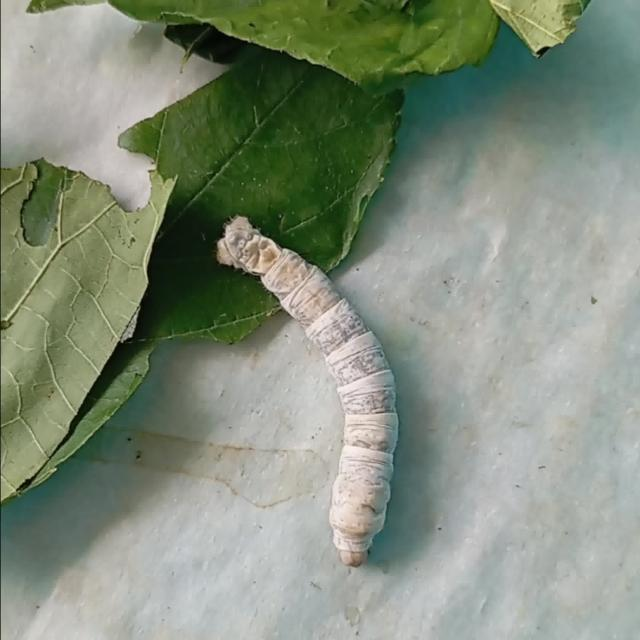Grasserie: (199, 199, 424, 573)
